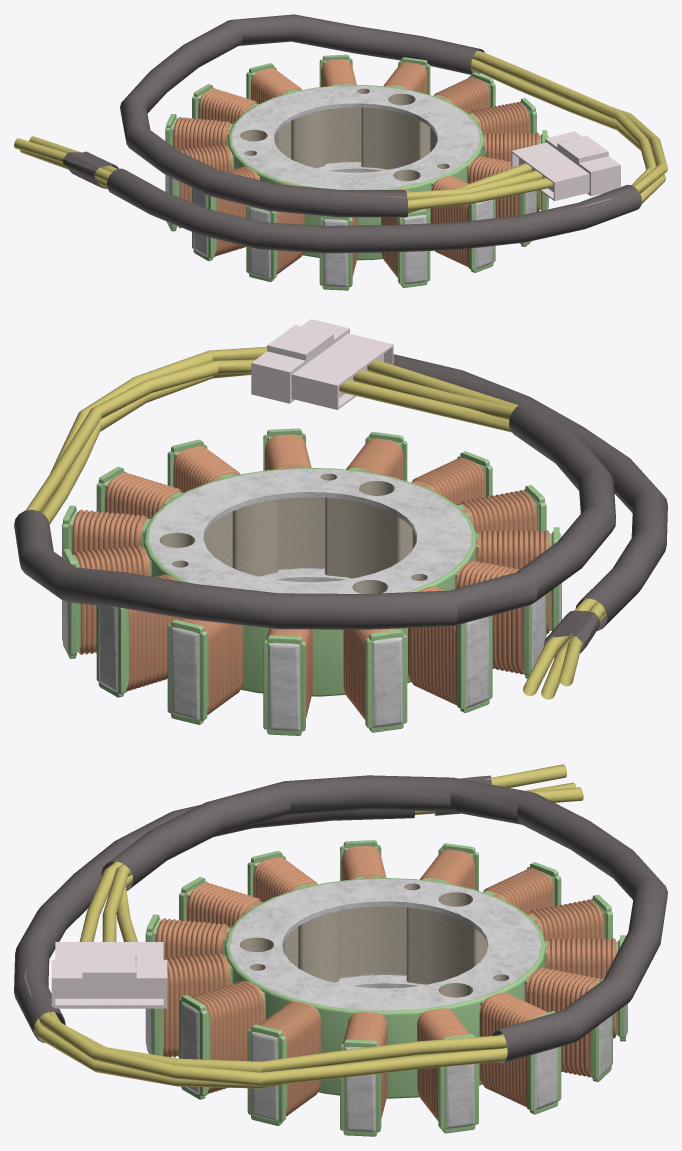
The model's file is spul.glb.
3 views of the same model, one above another, from view 1: azimuth 30°, elevation 25°; view 2: azimuth 150°, elevation 25°; view 3: azimuth 270°, elevation 25° (orthographic). The views are drawn at different scales.
Parts seen in each view (by area): view 1: spul; view 2: spul; view 3: spul.
Boxes of the visible parts, box(x1,y1,x2,y2) form: spul: box(14, 14, 667, 290); spul: box(14, 319, 667, 735); spul: box(14, 764, 667, 1136).
Bounding box in the file's own units: 4.64 × 1.03 × 4.19.
Materials: 1 (1 with a texture image).
